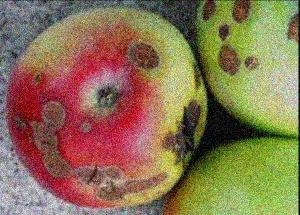rotten apple: (4, 4, 203, 214), (193, 0, 298, 139)
